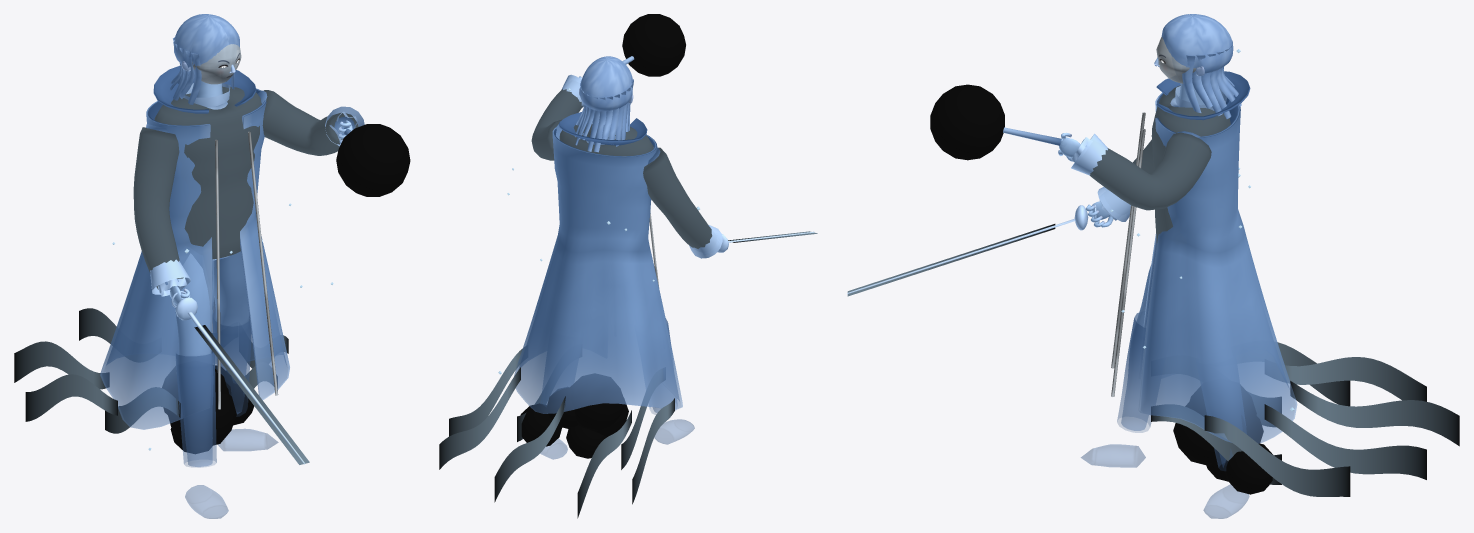
The model's file is gintaras.glb.
3 renders of one model, left to right at view 1: azimuth 30°, elevation 25°; view 2: azimuth 150°, elevation 25°; view 3: azimuth 270°, elevation 25°, orthographic. The views are drawn at different scales.
Visible parts, largest first — view 1: gintaras-ghost, gintaras-fx, gintaras-metal, gintaras-face; view 2: gintaras-ghost, gintaras-fx; view 3: gintaras-ghost, gintaras-fx, gintaras-metal, gintaras-face.
Boxes of the visible parts, left/top/right/bottom form: gintaras-ghost: left=100, top=14, right=364, bottom=518; gintaras-fx: left=14, top=86, right=410, bottom=464; gintaras-metal: left=215, top=131, right=278, bottom=409; gintaras-face: left=192, top=44, right=241, bottom=84; gintaras-ghost: left=514, top=56, right=814, bottom=459; gintaras-fx: left=439, top=14, right=817, bottom=518; gintaras-ghost: left=847, top=14, right=1297, bottom=518; gintaras-fx: left=847, top=84, right=1459, bottom=496; gintaras-metal: left=1111, top=112, right=1145, bottom=396; gintaras-face: left=1156, top=37, right=1199, bottom=83.
Size of the model in its own units: 0.5954 by 1.22 by 1.45.
5 materials, 1 textured.
